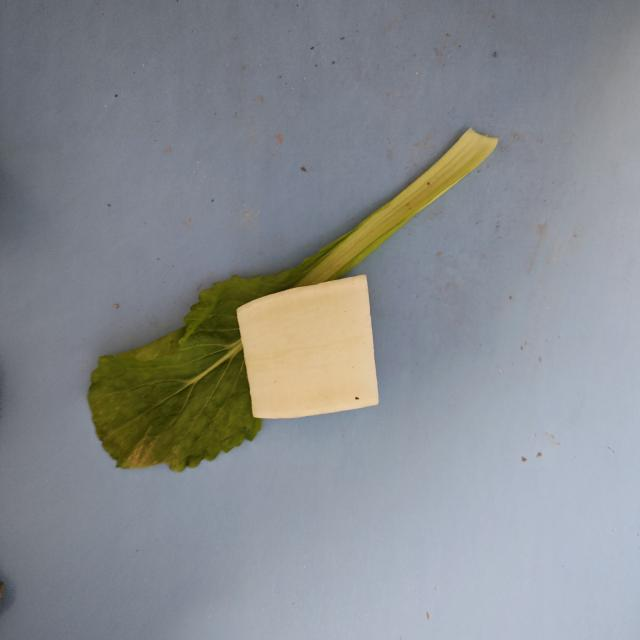-Kitchen waste - vegetable roots and leaves-: (88, 274, 336, 472)
-Kitchen waste - white radish-: (236, 274, 386, 422)
